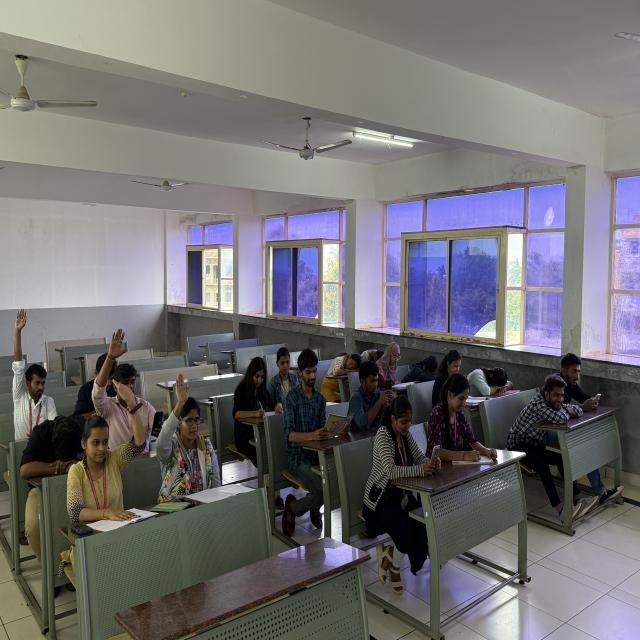Hand Rising: (78, 380, 149, 501), (154, 369, 217, 487), (93, 326, 149, 432), (10, 307, 58, 424)
Reading: (288, 350, 344, 464), (376, 341, 405, 386)
Sleeping: (18, 415, 89, 480), (466, 364, 521, 403), (328, 348, 362, 382), (404, 354, 441, 384)
Using Phone: (377, 394, 440, 483), (352, 361, 394, 429), (558, 353, 602, 411)
Writing: (428, 371, 496, 469), (233, 355, 284, 427)
